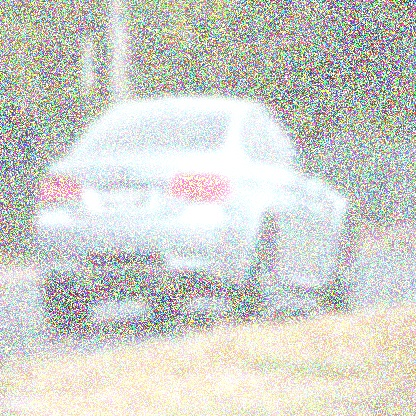Vehicle: (34, 98, 359, 326)
